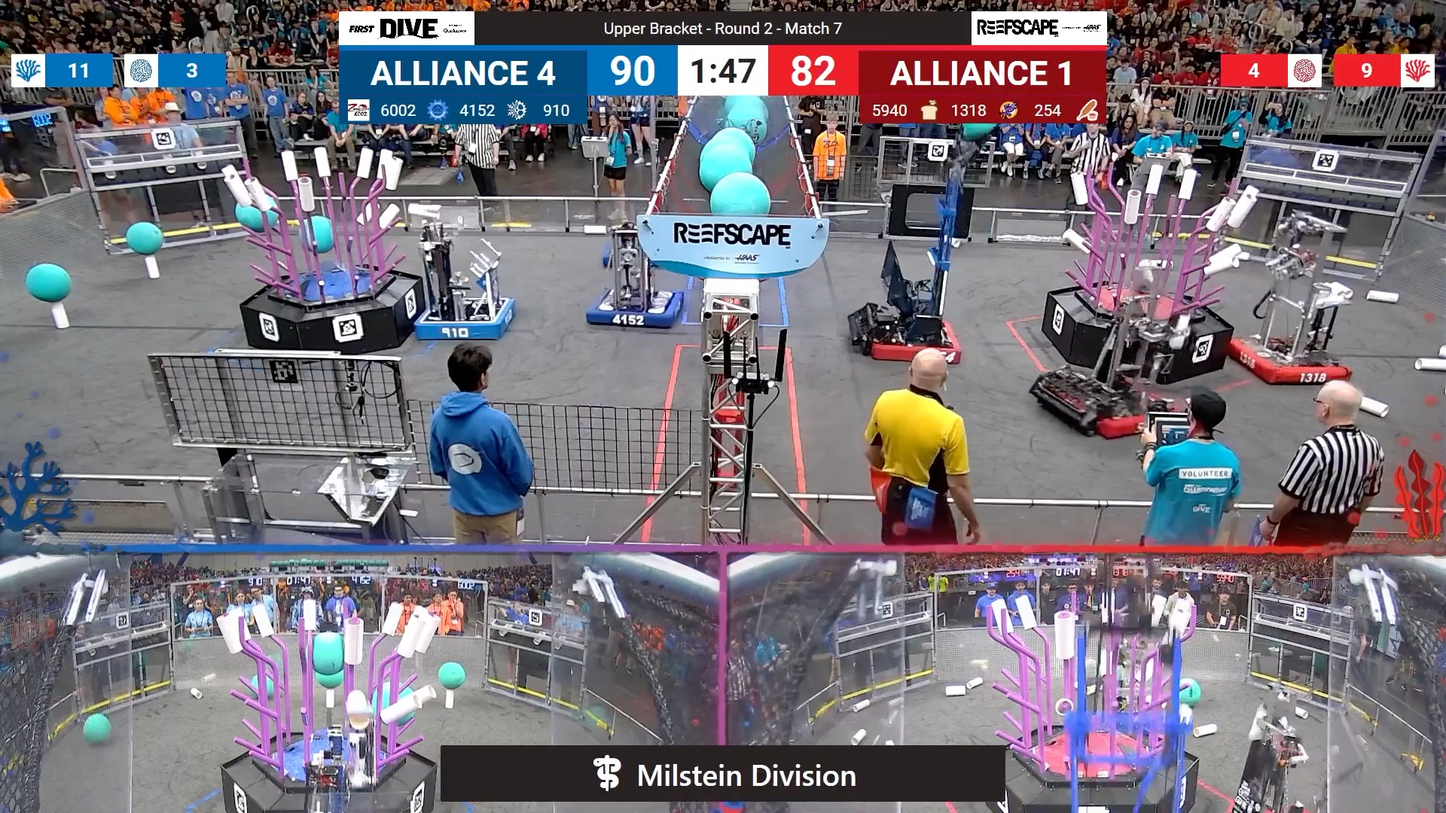bumpers: (1035, 370, 1188, 441), (1222, 334, 1357, 391), (848, 311, 968, 373), (410, 292, 519, 346), (584, 285, 688, 334)
